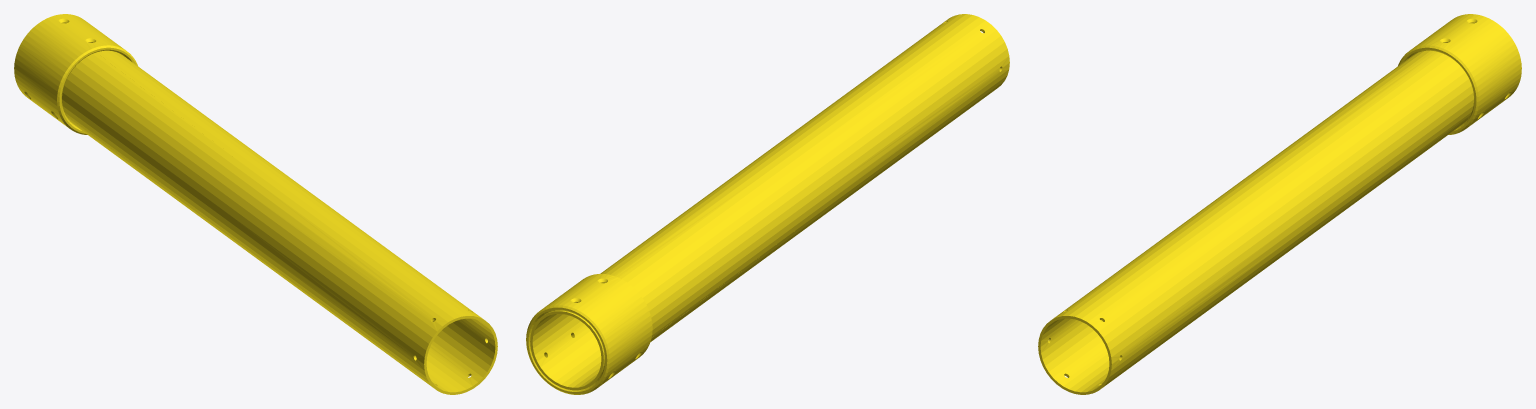
File: Roll Arm Housing.OBJ
The picture shows the model from 3 angles, left to right: view 1: azimuth 30°, elevation 25°; view 2: azimuth 150°, elevation 25°; view 3: azimuth 330°, elevation 25°; orthographic projection.
Visible parts, largest first — view 1: /ambf/env/Roll_Arm_Housing_Roll_Arm_Housing; view 2: /ambf/env/Roll_Arm_Housing_Roll_Arm_Housing; view 3: /ambf/env/Roll_Arm_Housing_Roll_Arm_Housing.
Boxes of the visible parts, x1,y1,x2,y2 form: /ambf/env/Roll_Arm_Housing_Roll_Arm_Housing: [14, 14, 497, 394]; /ambf/env/Roll_Arm_Housing_Roll_Arm_Housing: [526, 14, 1009, 394]; /ambf/env/Roll_Arm_Housing_Roll_Arm_Housing: [1038, 14, 1521, 394].
Size of the model in its own units: 0.054 by 0.054 by 0.454.
